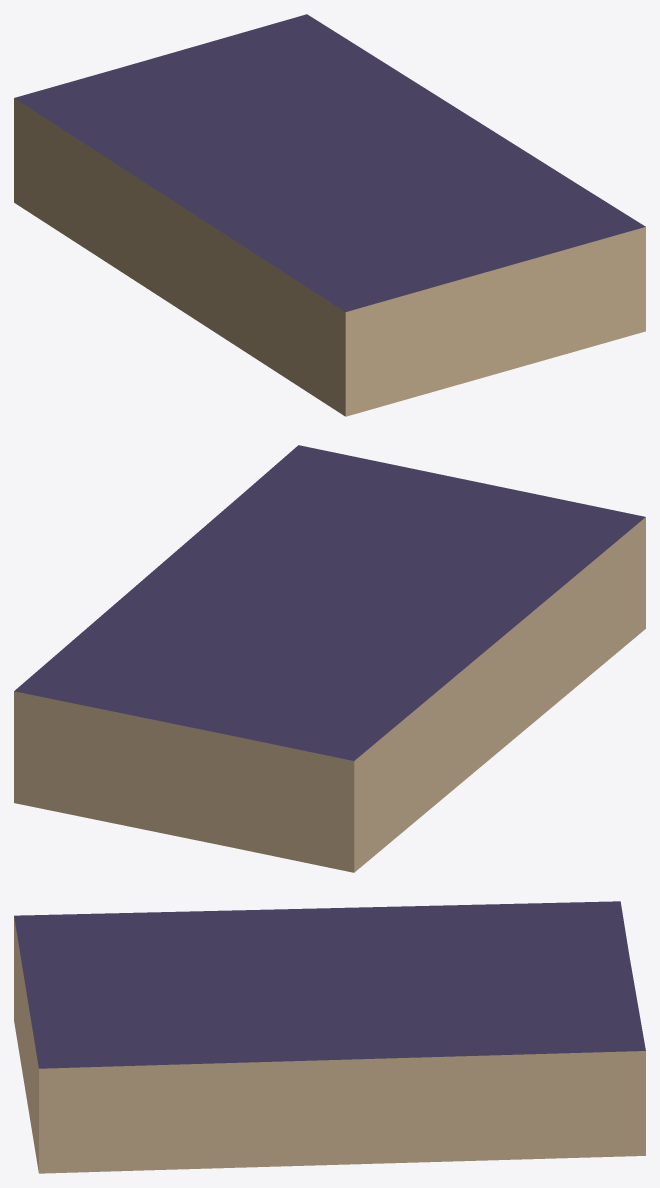
Rendered from b-069-cronyn-observatory.glb.
The picture shows the model from 3 angles, top to bottom: view 1: azimuth 30°, elevation 25°; view 2: azimuth 150°, elevation 25°; view 3: azimuth 270°, elevation 25°; orthographic projection. The views are drawn at different scales.
Parts seen in each view (by area): view 1: campus/b-069-cronyn-observatory-0; view 2: campus/b-069-cronyn-observatory-0; view 3: campus/b-069-cronyn-observatory-0.
Part boxes in pixels (bbox=[...]): campus/b-069-cronyn-observatory-0: bbox=[14, 14, 645, 416]; campus/b-069-cronyn-observatory-0: bbox=[14, 445, 645, 872]; campus/b-069-cronyn-observatory-0: bbox=[14, 901, 645, 1173].
Bounding box in the file's own units: 10.27 × 3 × 16.38.
